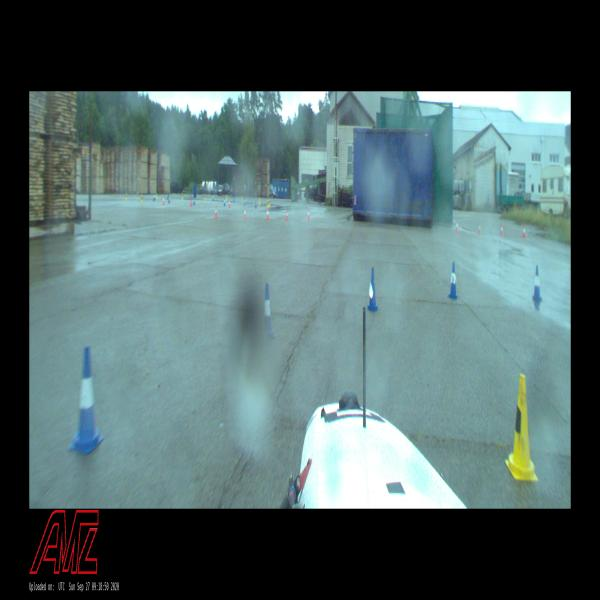blue_cone: (68, 346, 104, 455), (262, 284, 276, 341), (367, 267, 378, 312), (532, 265, 542, 307), (447, 262, 458, 300)
orange_cone: (243, 208, 247, 221), (214, 206, 218, 218), (266, 207, 269, 220), (307, 209, 310, 220), (478, 223, 481, 234), (523, 226, 526, 237), (228, 199, 231, 208), (501, 224, 503, 237), (456, 220, 458, 233), (285, 210, 287, 220)
yellow_cone: (505, 375, 538, 482), (141, 194, 143, 203), (267, 199, 269, 207)
